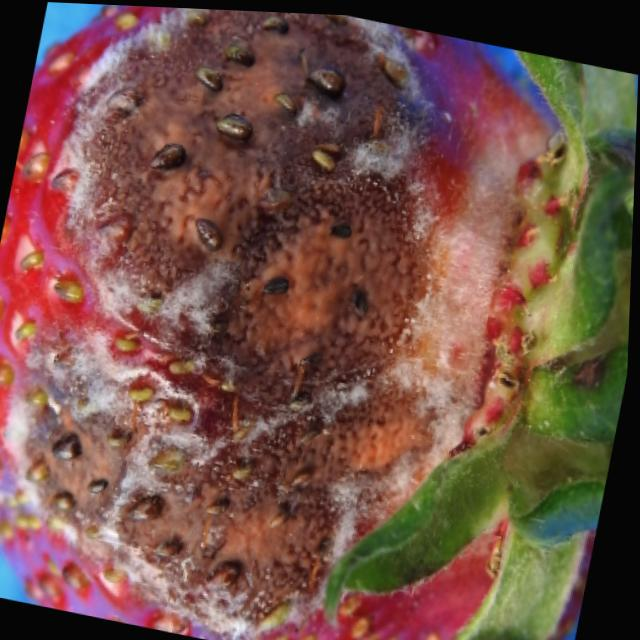Anthracnose Fruit Rot: (0, 5, 567, 640)
